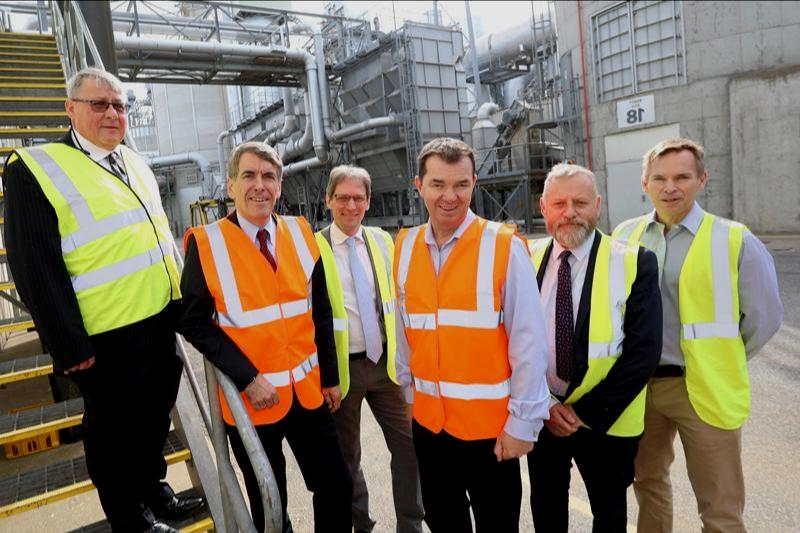person: (1, 58, 176, 533), (613, 136, 766, 527), (390, 129, 531, 533), (178, 143, 318, 533), (521, 153, 655, 522), (308, 151, 411, 533)
